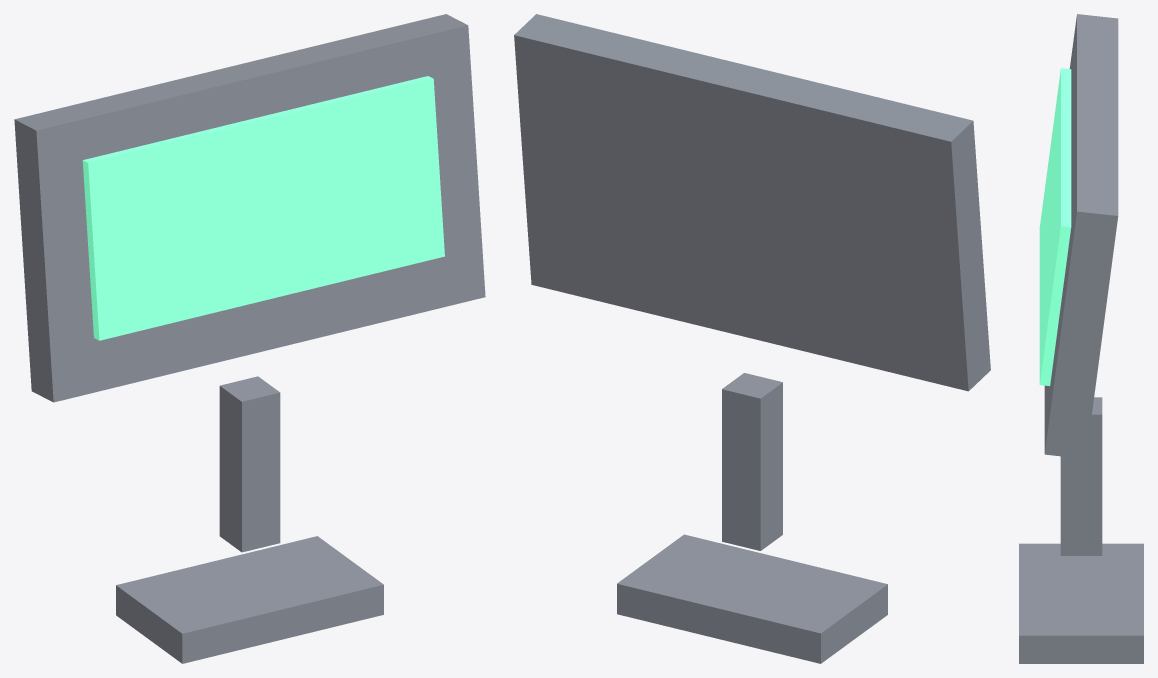
Rendered from screen.glb.
3 views of the same model, side by side, from view 1: azimuth 30°, elevation 25°; view 2: azimuth 150°, elevation 25°; view 3: azimuth 270°, elevation 25° (orthographic). The views are drawn at different scales.
Visible parts, largest first — view 1: frame, screen, base, stem; view 2: frame, base, stem; view 3: frame, base, screen, stem.
Part boxes in pixels (bbox=[...]): frame: bbox=[14, 14, 485, 402]; screen: bbox=[82, 76, 444, 340]; base: bbox=[116, 536, 383, 663]; stem: bbox=[219, 376, 280, 552]; frame: bbox=[514, 14, 990, 391]; base: bbox=[617, 534, 887, 663]; stem: bbox=[722, 373, 782, 550]; frame: bbox=[1044, 14, 1118, 458]; base: bbox=[1019, 543, 1143, 663]; screen: bbox=[1039, 68, 1071, 385]; stem: bbox=[1060, 397, 1102, 555].
Bounding box in the file's own units: 0.9 × 1.07 × 0.24.
